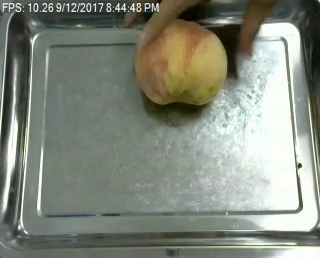Peach: (136, 18, 228, 107)
